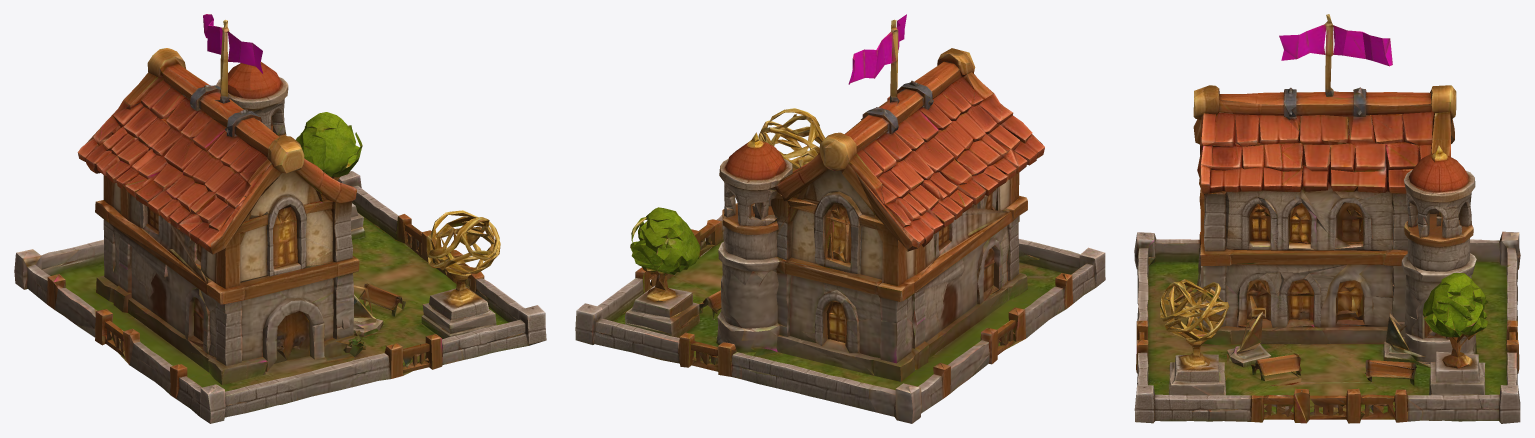
The model's file is university.glb.
3 views of the same model, side by side, from view 1: azimuth 30°, elevation 25°; view 2: azimuth 150°, elevation 25°; view 3: azimuth 270°, elevation 25° (orthographic).
Visible parts, largest first — view 1: Mesh_0; view 2: Mesh_0; view 3: Mesh_0.
Boxes of the visible parts, <box> form: Mesh_0: <box>14,14,546,423</box>; Mesh_0: <box>575,14,1105,423</box>; Mesh_0: <box>1134,14,1520,423</box>.
Size of the model in its own units: 1.9 by 1.64 by 1.9.
1 material, 1 textured.
